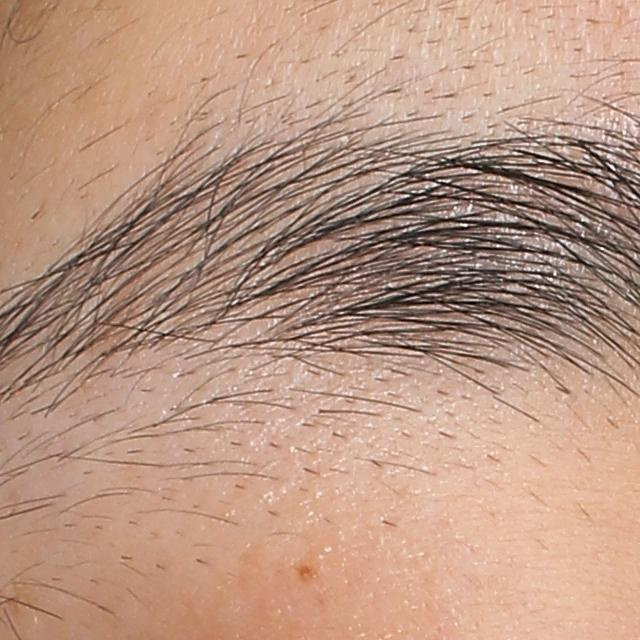nevus: (291, 560, 315, 588)
